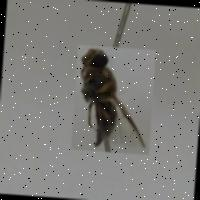Oriental-fruit-fly: (70, 43, 156, 154)
